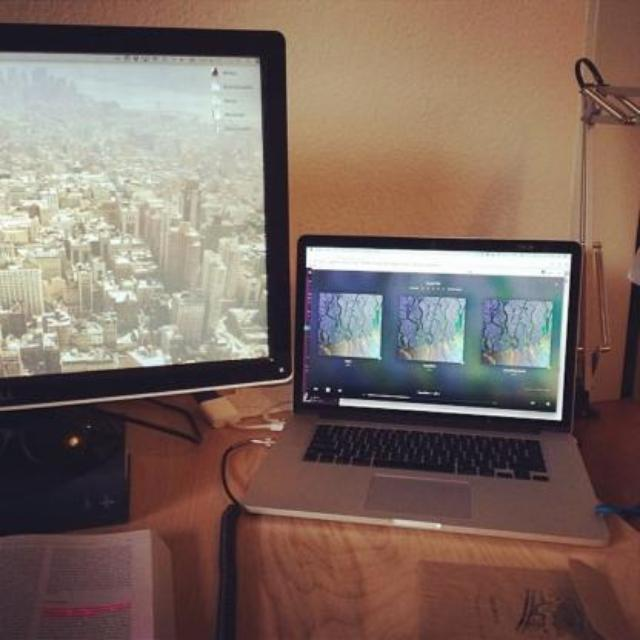Flat-Panel-Monitor: (0, 8, 304, 430)
Laptop: (238, 228, 622, 538)
